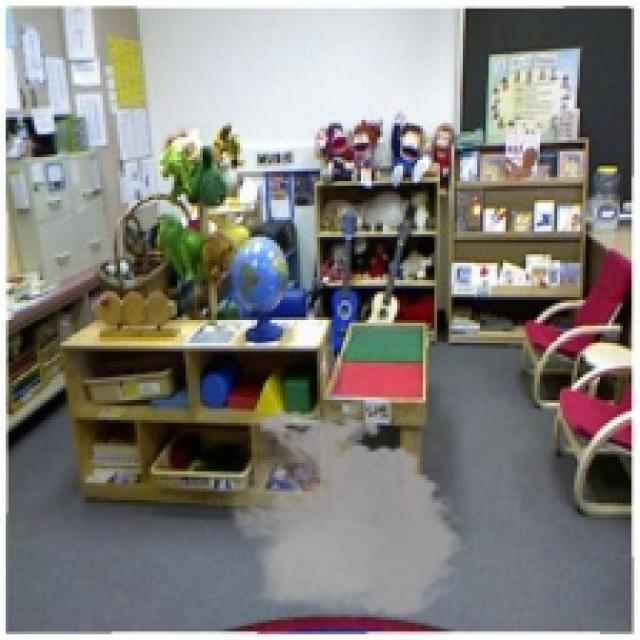smoke: (217, 403, 472, 626)
